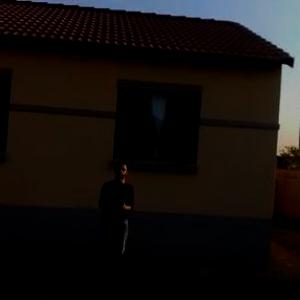follow: (90, 153, 136, 294)
